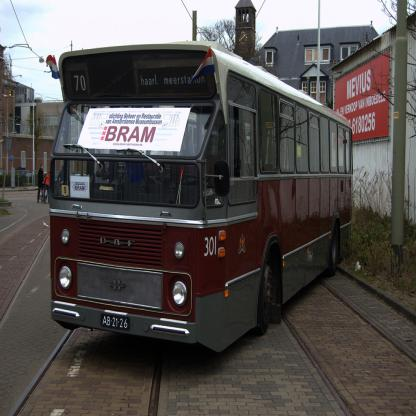Bus: (46, 41, 353, 353)
